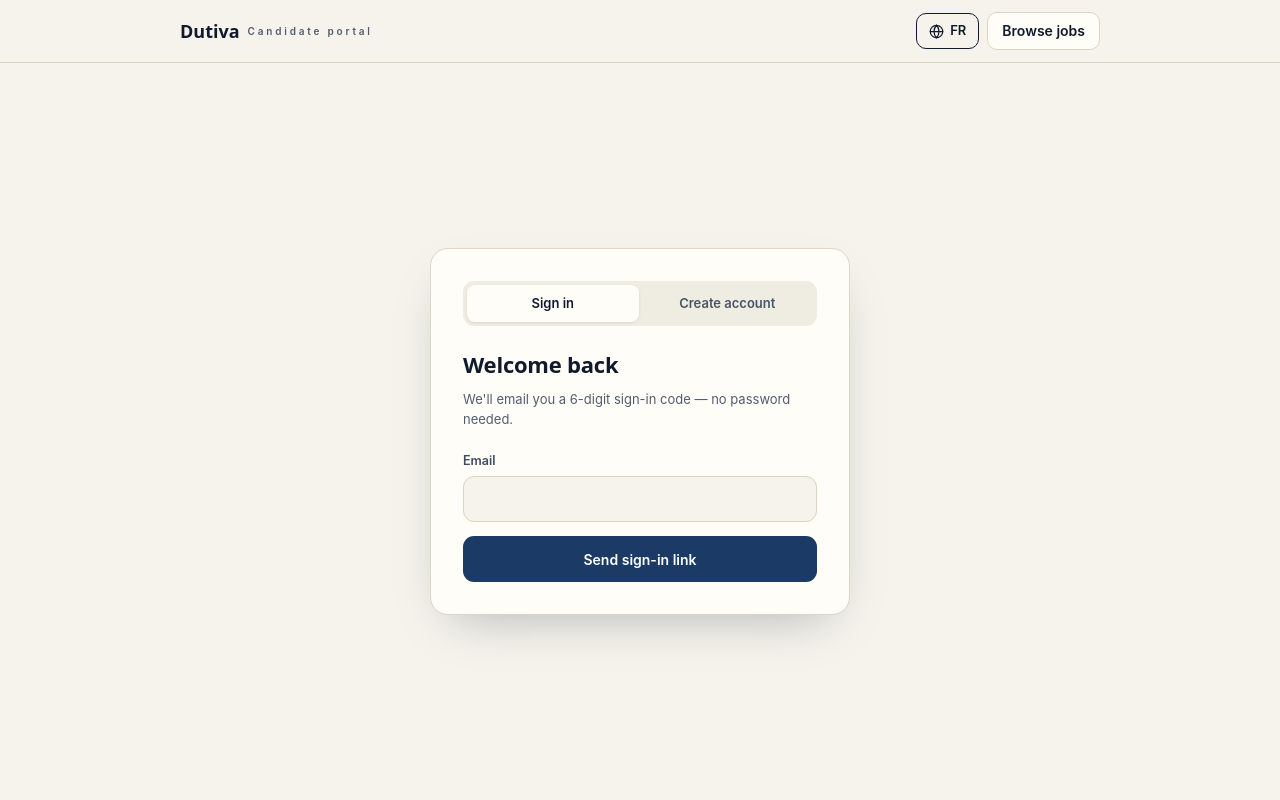
Test: PortalLayout (signed out) › explains the passwordless flow and toggles language in place
This screenshot has width=1280, height=800.
Expected: the text "We'll email you a 6-digit sign-in code — no password needed." is shown, [463, 389, 817, 430]
Click the button with aria-label "Toggle language".
click(948, 31)  # box [916, 13, 979, 49]
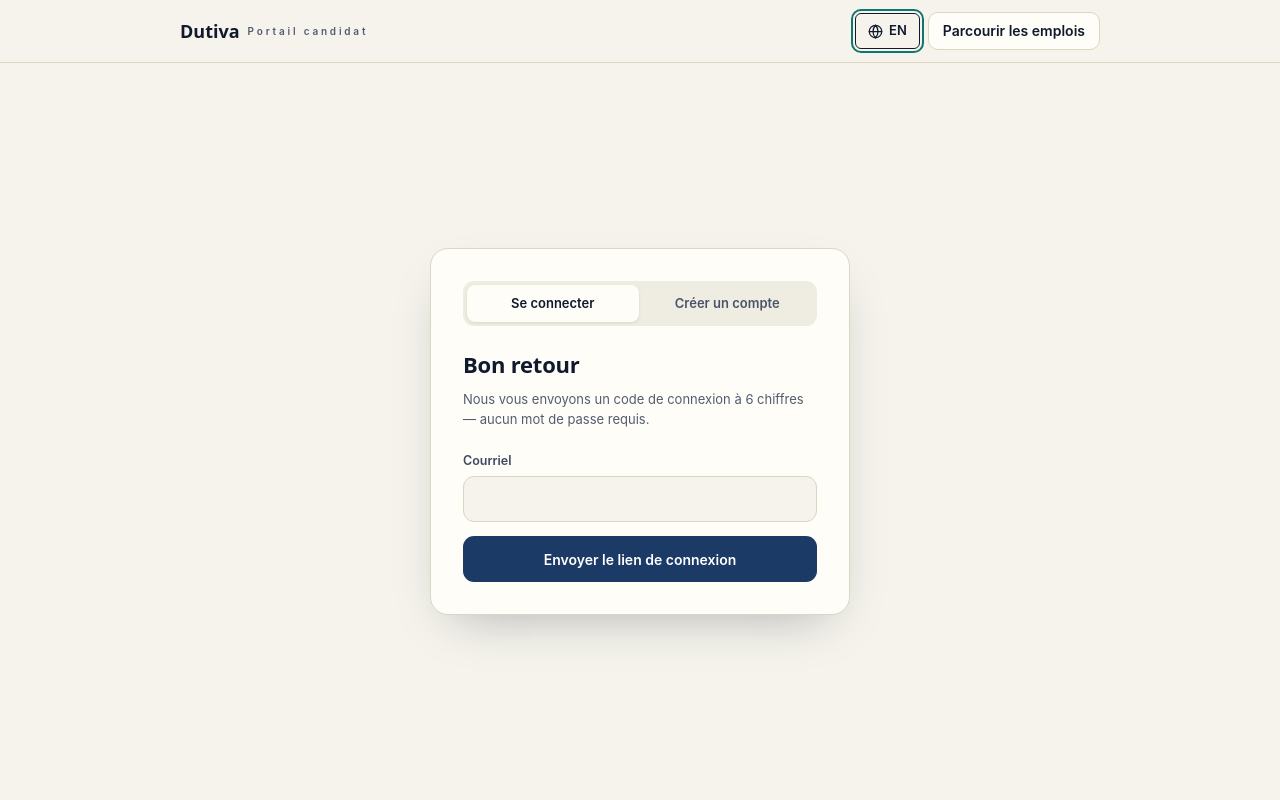
Result: the heading "Bon retour" is shown at [463, 349, 580, 379]
Result: the text "aucun mot de passe requis" is shown at [463, 391, 804, 427]
